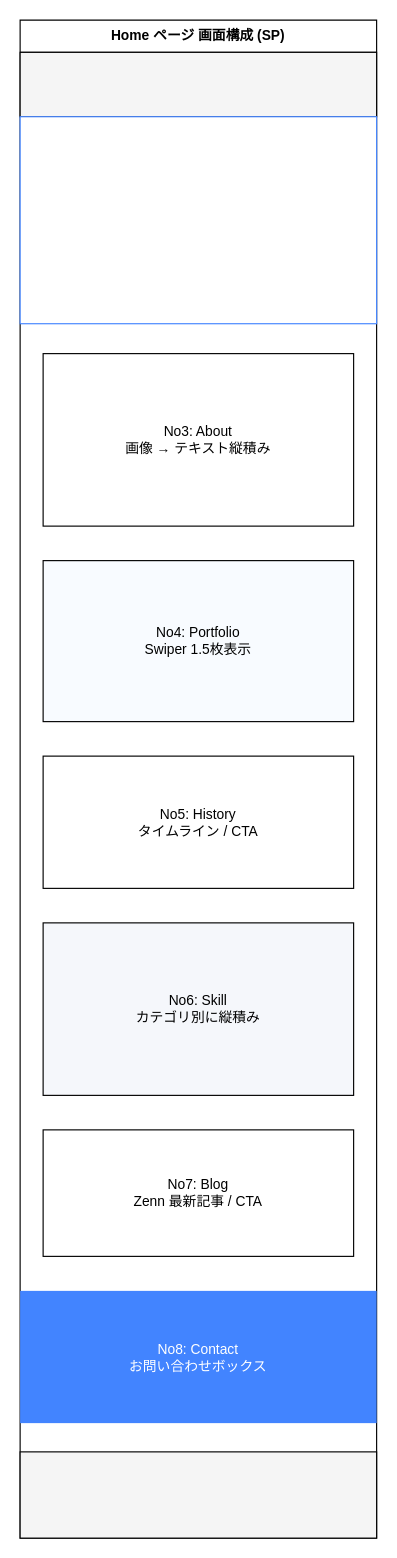
The diagram is 397 pixels wide and 1558 high, and some of its shapes have lost their labels. The shapes that lost their labels are listed below. From the top down, each one's centre as x and y in pixels, then its label:
pixel 198 84: No1: ヘッダー ハンバーガーナビ
pixel 198 220: No2: FV 大見出し / 3Dモデル
pixel 198 1494: No9: フッター / TopBackButton
